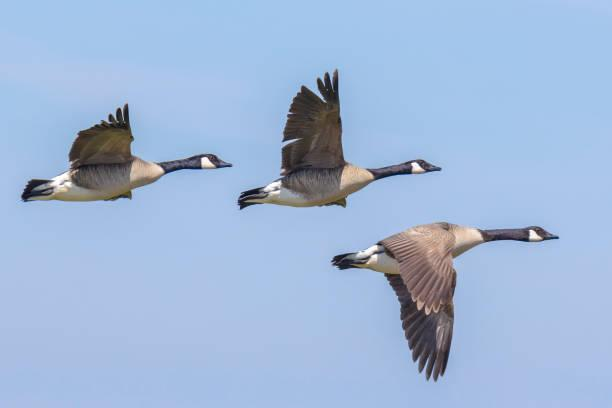Canadian-Goose: (335, 220, 560, 378), (240, 70, 443, 209), (21, 102, 232, 205)
